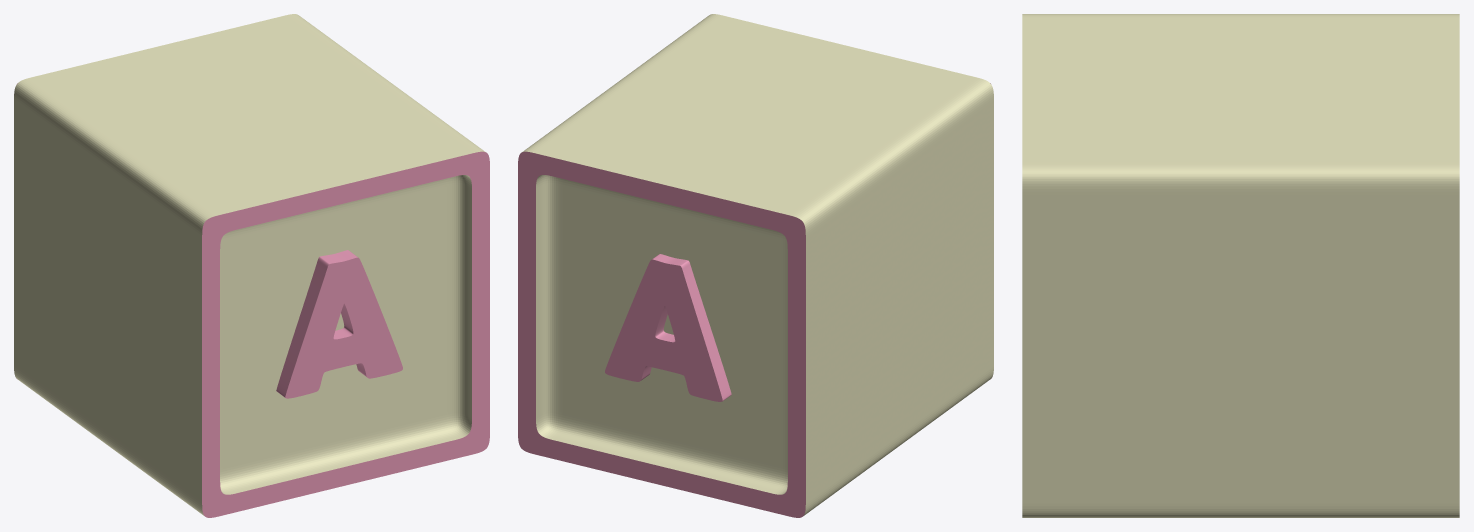
Rendered from letterablock.fbx.
The picture shows the model from 3 angles, left to right: view 1: azimuth 30°, elevation 25°; view 2: azimuth 150°, elevation 25°; view 3: azimuth 270°, elevation 25°; orthographic projection. The views are drawn at different scales.
Parts seen in each view (by area): view 1: Cube, Cube.002, Text; view 2: Cube, Cube.001, Text.001; view 3: Cube.
Boxes of the visible parts, x1,y1,x2,y2 form: Cube: [14, 14, 485, 515]; Cube.002: [202, 151, 489, 517]; Text: [276, 250, 402, 398]; Cube: [522, 14, 993, 515]; Cube.001: [518, 151, 805, 517]; Text.001: [605, 254, 731, 401]; Cube: [1022, 14, 1459, 517].
Bounding box in the file's own units: 1196 × 1196 × 1354.
